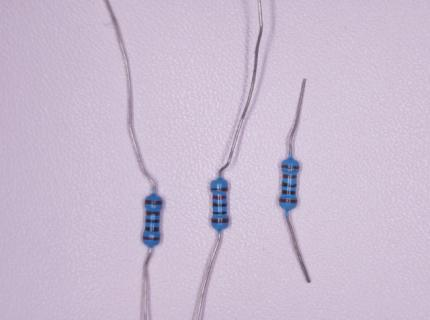Brown band: (146, 210, 160, 215), (283, 174, 296, 178)
